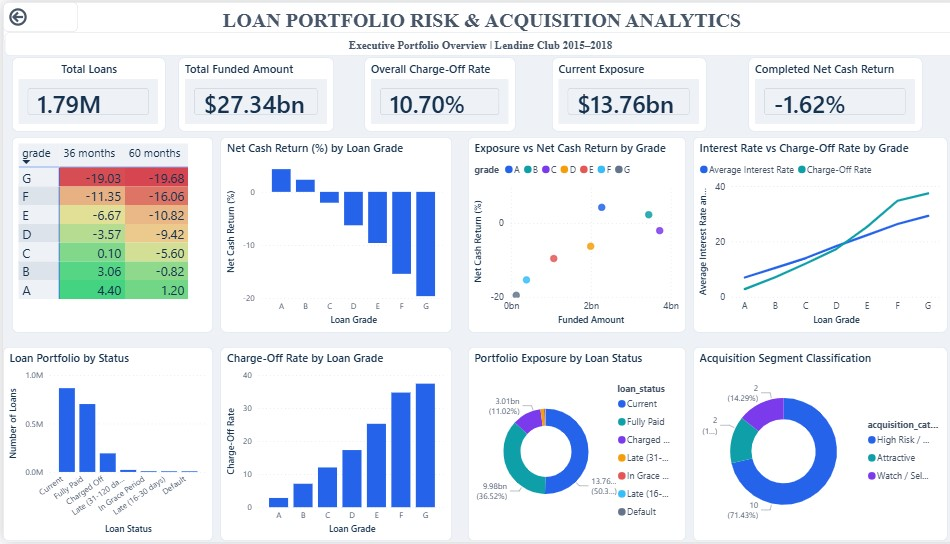

The dashboard page shown, as its layout file describes it:
{"tool":"powerbi","page":{"name":"Executive Overview","canvas":[1280,720],"ordinal":0},"visuals":[{"type":"clusteredColumnChart","title":"Loan Portfolio by Status","fields":{"Category":["Loan_Status.loan_status"],"Y":["Sum(Loan_Status.number_of_loans)"]},"box":[0,460.3,280.1,258.9],"z":0},{"type":"clusteredColumnChart","title":"Charge-Off Rate by Loan Grade","fields":{"Category":["Grade_Risk.grade"],"Y":["Sum(Grade_Risk.charge_off_rate)"]},"box":[290.7,460.3,308.9,258.9],"z":1000},{"type":"clusteredColumnChart","fields":{"Category":["Acquisition.grade"],"Y":["Acquisition.Net Cash Return %"]},"box":[290.7,180.2,308.9,260.4],"z":2000},{"type":"donutChart","title":"Portfolio Exposure by Loan Status","fields":{"Category":["Loan_Status.loan_status"],"Y":["Sum(Loan_Status.funded_amount)"]},"box":[619.3,460.3,290.7,258.9],"z":3000},{"type":"scatterChart","title":"Exposure vs Net Cash Return by Grade","fields":{"X":["Sum(Acquisition.funded_amount)"],"Y":["Acquisition.Net Cash Return %"],"Series":["Acquisition.grade"]},"box":[619.3,180.2,290.7,260.4],"z":4000},{"type":"pivotTable","fields":{"Rows":["Grade_Term.grade"],"Columns":["Grade_Term.term"],"Values":["Sum(Grade_Term.net_cash_return_pct)"]},"box":[12.1,180.2,268,260.4],"z":5000},{"type":"lineChart","title":"Interest Rate vs Charge-Off Rate by Grade","fields":{"Category":["Grade_Risk.grade"],"Y":["Sum(Grade_Risk.average_interest_rate)","Sum(Grade_Risk.charge_off_rate)"]},"box":[920.6,180.2,339.2,260.4],"z":6000},{"type":"donutChart","title":"Acquisition Segment Classification","fields":{"Category":["Acquisition.acquisition_category"],"Y":["CountNonNull(Acquisition.grade)"]},"box":[920.6,460.3,339.2,258.9],"z":7000},{"type":"cardVisual","title":"Total Loans","fields":{"Data":["Sum(KPI.total_loans)"]},"box":[12.1,74.2,204.4,98.4],"z":8000},{"type":"cardVisual","title":"Total Funded Amount","fields":{"Data":["Sum(KPI.total_funded_amount)"]},"box":[233.2,74.2,207.4,98.4],"z":9000},{"type":"cardVisual","title":"Overall Charge-Off Rate","fields":{"Data":["KPI.Overall Charge-Off Rate"]},"box":[481.5,74.2,201.4,98.4],"z":10000},{"type":"cardVisual","title":"Current Exposure","fields":{"Data":["Sum(KPI.current_exposure)"]},"box":[732.9,74.2,205.9,98.4],"z":11000},{"type":"cardVisual","title":"Completed Net Cash Return","fields":{"Data":["Completed_Financial.Completed Net Cash Return"]},"box":[994.8,74.2,231.7,98.4],"z":12000},{"type":"textbox","box":[0,0,1278,56],"z":13000},{"type":"actionButton","box":[0,0,100,40],"z":14000},{"type":"textbox","box":[1.5,39.4,1278,31.8],"z":15000}]}

Visuals, with their boxes in screenshot pixels (x1, y1, x2, y2), scaled from the page's 1280x720 canvas onto the 950x544 screenshot:
"Loan Portfolio by Status" clusteredColumnChart: (0, 348, 208, 543)
"Charge-Off Rate by Loan Grade" clusteredColumnChart: (216, 348, 445, 543)
clusteredColumnChart - Acquisition.grade x Acquisition.Net Cash Return %: (216, 136, 445, 333)
"Portfolio Exposure by Loan Status" donutChart: (460, 348, 675, 543)
"Exposure vs Net Cash Return by Grade" scatterChart: (460, 136, 675, 333)
pivotTable - Grade_Term.grade x Grade_Term.term: (9, 136, 208, 333)
"Interest Rate vs Charge-Off Rate by Grade" lineChart: (683, 136, 935, 333)
"Acquisition Segment Classification" donutChart: (683, 348, 935, 543)
"Total Loans" cardVisual: (9, 56, 161, 130)
"Total Funded Amount" cardVisual: (173, 56, 327, 130)
"Overall Charge-Off Rate" cardVisual: (357, 56, 507, 130)
"Current Exposure" cardVisual: (544, 56, 697, 130)
"Completed Net Cash Return" cardVisual: (738, 56, 910, 130)
textbox: (0, 0, 949, 42)
actionButton: (0, 0, 74, 30)
textbox: (1, 30, 949, 54)
